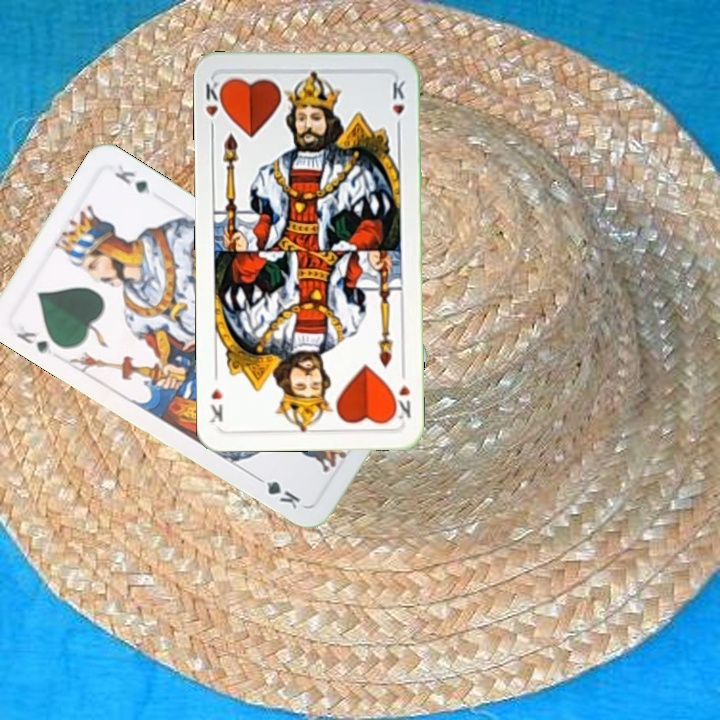GK: (12, 327, 55, 357)
HK: (389, 365, 413, 422), (201, 77, 227, 119)
